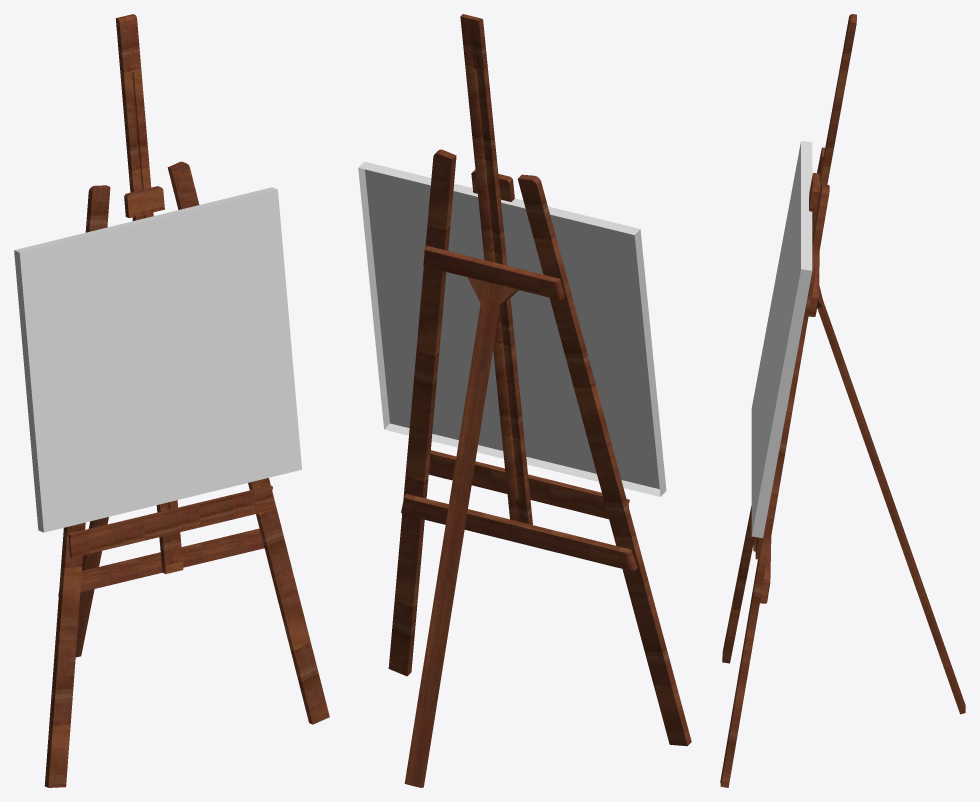
Rendered from Projectsarea2.glb.
The picture shows the model from 3 angles, left to right: view 1: azimuth 30°, elevation 25°; view 2: azimuth 150°, elevation 25°; view 3: azimuth 270°, elevation 25°; orthographic projection. The views are drawn at different scales.
Visible parts, largest first — view 1: projectstables, painttablestand; view 2: painttablestand, projectstables; view 3: painttablestand, projectstables.
Boxes of the visible parts, <box> form: projectstables: <box>14,187,301,532</box>; painttablestand: <box>44,14,329,787</box>; painttablestand: <box>388,14,691,787</box>; projectstables: <box>358,161,666,496</box>; painttablestand: <box>720,14,965,787</box>; projectstables: <box>751,141,812,538</box>.
Bounding box in the file's own units: 0.2751 × 0.6503 × 0.2045.
2 materials, 1 textured.
